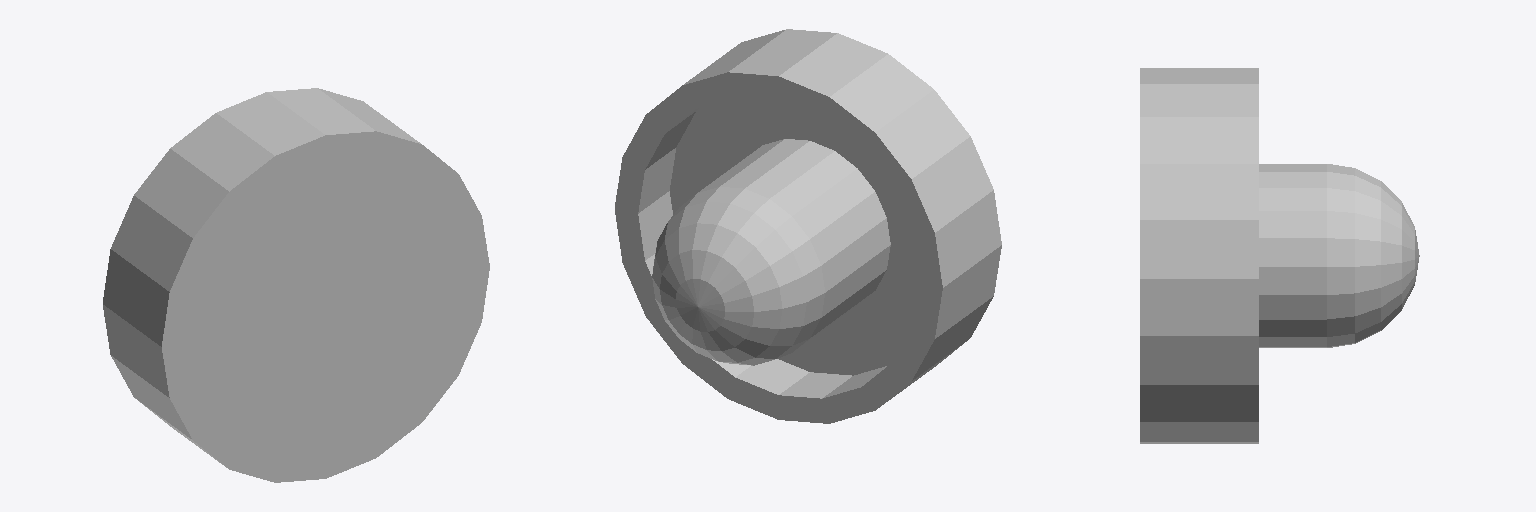
File: Paddle1Orig.obj
The picture shows the model from 3 angles: view 1: azimuth 30°, elevation 25°; view 2: azimuth 150°, elevation 25°; view 3: azimuth 270°, elevation 25°; orthographic projection.
Parts seen in each view (by area): view 1: Paddle1; view 2: Paddle1; view 3: Paddle1.
Boxes of the visible parts, <box> form: Paddle1: <box>103,88,489,482</box>; Paddle1: <box>615,29,1001,423</box>; Paddle1: <box>1140,68,1419,443</box>.
Bounding box in the file's own units: 1.83 × 1.83 × 1.35.